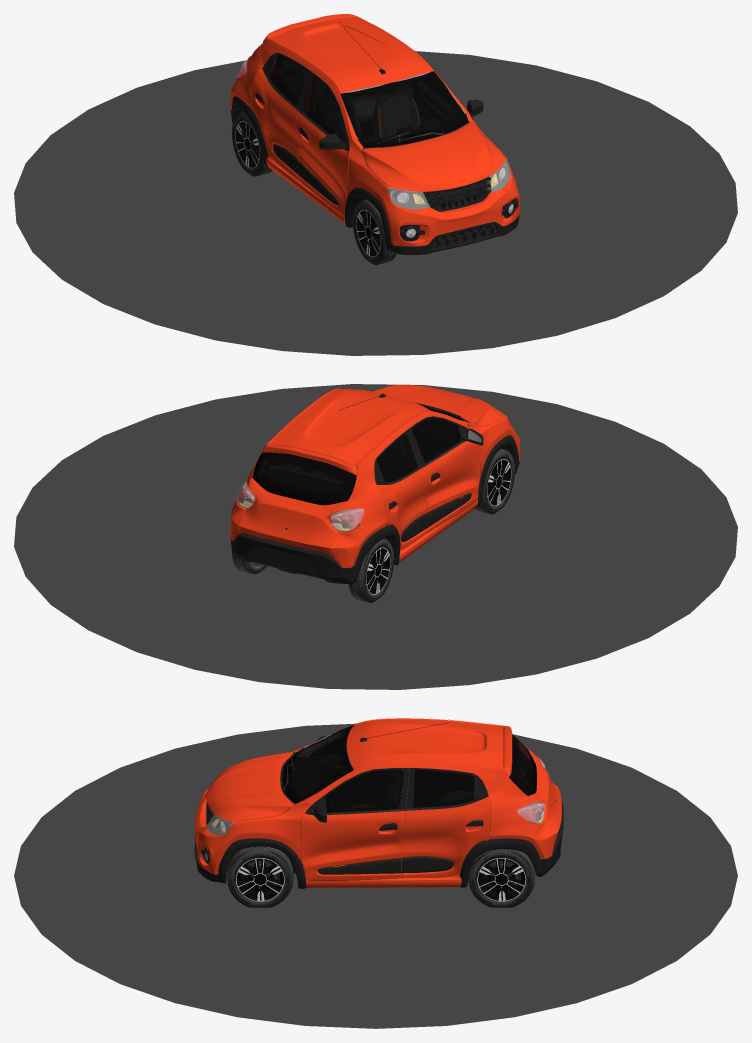
File: car-lite.glb
3 views of the same model, one above another, from view 1: azimuth 30°, elevation 25°; view 2: azimuth 150°, elevation 25°; view 3: azimuth 270°, elevation 25° (orthographic).
Visible parts, largest first — view 1: Circle, Bodywork, Window, Bodywork Plastic, Right Front Door.019, Right Back Door.014, Right Front Door, Right Back Door, Front Light, Right Front Tire.001, Left Front Seat.003, Right Back Tire (+6 smaller); view 2: Circle, Bodywork, Trunk.002, Bodywork Plastic, Trunk.001, Right Front Door.019, Right Back Door.014, Right Front Door, Right Back Door, Right Back Tire.001, Rear Light, Right Front Tire.001 (+6 smaller); view 3: Circle, Bodywork, Right Front Door.016, Right Back Door.016, Bodywork Plastic, Window, Right Front Door.007, Left Front Tire.001, Right Back Door.006, Left back Tire.001, Trunk.002, Left Front Tire (+9 smaller).
Boxes of the visible parts, left/top/right/bottom form: Circle: left=14, top=51, right=737, bottom=355; Bodywork: left=230, top=16, right=520, bottom=246; Window: left=340, top=71, right=467, bottom=147; Bodywork Plastic: left=230, top=96, right=519, bottom=254; Right Front Door.019: left=295, top=72, right=349, bottom=216; Right Back Door.014: left=251, top=57, right=299, bottom=179; Right Front Door: left=303, top=74, right=344, bottom=140; Right Back Door: left=268, top=54, right=306, bottom=105; Front Light: left=387, top=159, right=510, bottom=209; Right Front Tire.001: left=352, top=199, right=396, bottom=265; Left Front Seat.003: left=382, top=96, right=409, bottom=131; Right Back Tire: left=235, top=121, right=260, bottom=167; Circle: left=14, top=384, right=737, bottom=689; Bodywork: left=230, top=384, right=520, bottom=567; Trunk.002: left=239, top=444, right=356, bottom=554; Bodywork Plastic: left=230, top=435, right=519, bottom=583; Trunk.001: left=252, top=452, right=356, bottom=505; Right Front Door.019: left=410, top=423, right=480, bottom=532; Right Back Door.014: left=377, top=467, right=427, bottom=549; Right Front Door: left=411, top=418, right=461, bottom=463; Right Back Door: left=376, top=433, right=417, bottom=482; Right Back Tire.001: left=348, top=538, right=394, bottom=602; Rear Light: left=237, top=481, right=364, bottom=531; Right Front Tire.001: left=475, top=448, right=514, bottom=514; Circle: left=14, top=723, right=737, bottom=1028; Bodywork: left=194, top=718, right=558, bottom=887; Right Front Door.016: left=300, top=794, right=405, bottom=880; Right Back Door.016: left=402, top=796, right=491, bottom=878; Bodywork Plastic: left=194, top=800, right=563, bottom=888; Window: left=283, top=725, right=353, bottom=803; Right Front Door.007: left=325, top=770, right=404, bottom=812; Left Front Tire.001: left=227, top=846, right=293, bottom=907; Right Back Door.006: left=413, top=770, right=474, bottom=807; Left back Tire.001: left=468, top=849, right=534, bottom=907; Trunk.002: left=503, top=726, right=561, bottom=831; Left Front Tire: left=236, top=857, right=284, bottom=900.
Size of the model in its own units: 6.94 by 1.65 by 6.94.
28 materials, 27 textured.
